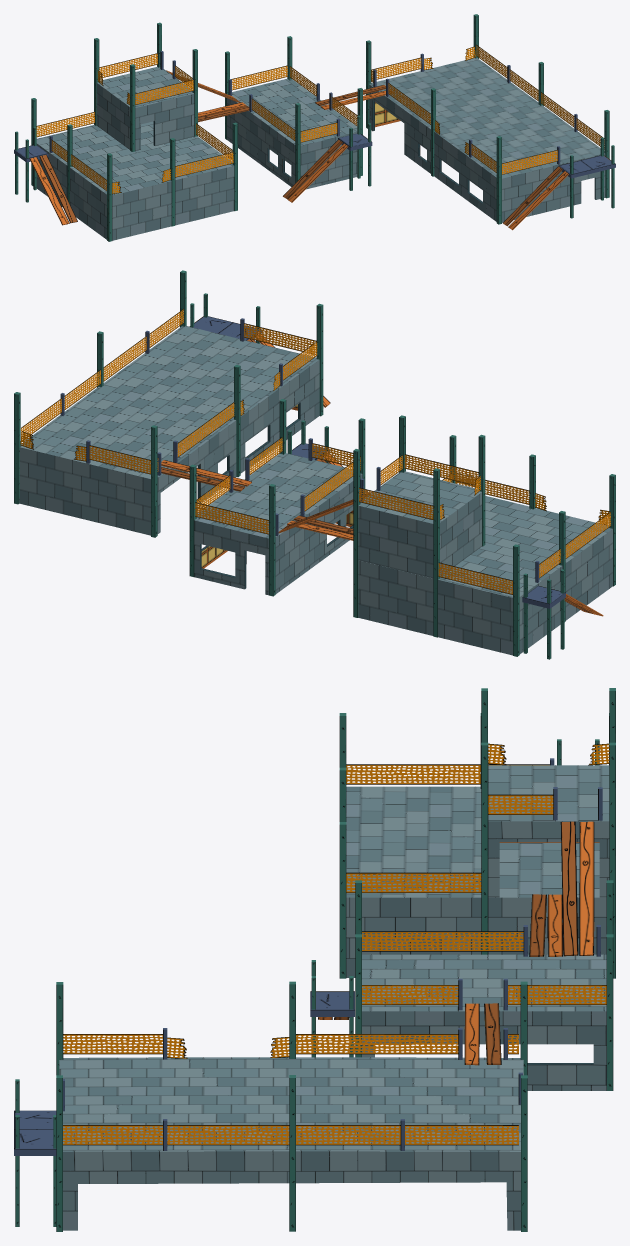
File: Construction site.fbx
3 views of the same model, one above another, from view 1: azimuth 30°, elevation 25°; view 2: azimuth 150°, elevation 25°; view 3: azimuth 270°, elevation 25° (orthographic). The views are drawn at different scales.
Parts seen in each view (by area): view 1: Box017, Box021, Box020, Box023, Plane018, Plane019, Box074, Plane025, Plane028, Plane031, Plane020, Plane003 (+28 smaller); view 2: Box017, Box021, Box020, Box023, Plane018, Plane019, Box116, Plane031, Plane020, Plane029, Box117, Plane028 (+18 smaller); view 3: Box017, Box021, Box020, Box023, Plane018, Plane019, Plane024, Plane026, Plane027, Box099, Box098, Box074 (+16 smaller).
Part boxes in pixels (left/top/right/bottom): Box017: left=369, top=58, right=605, bottom=222; Box021: left=36, top=121, right=234, bottom=240; Box020: left=227, top=79, right=357, bottom=189; Box023: left=96, top=66, right=194, bottom=150; Plane018: left=476, top=45, right=604, bottom=149; Plane019: left=371, top=70, right=496, bottom=172; Box074: left=558, top=155, right=615, bottom=178; Plane025: left=175, top=152, right=233, bottom=177; Plane028: left=135, top=79, right=193, bottom=104; Plane031: left=36, top=112, right=94, bottom=137; Plane020: left=231, top=65, right=287, bottom=90; Plane003: left=502, top=150, right=557, bottom=174; Box017: left=19, top=326, right=319, bottom=535; Box021: left=358, top=496, right=612, bottom=655; Box020: left=194, top=453, right=362, bottom=595; Box023: left=358, top=471, right=481, bottom=578; Plane018: left=21, top=309, right=183, bottom=440; Plane019: left=157, top=341, right=317, bottom=471; Box116: left=353, top=449, right=360, bottom=617; Plane031: left=438, top=562, right=512, bottom=594; Plane020: left=195, top=502, right=268, bottom=534; Plane029: left=359, top=487, right=433, bottom=519; Box117: left=433, top=468, right=439, bottom=637; Plane028: left=404, top=454, right=478, bottom=485; Box017: left=59, top=1057, right=523, bottom=1230; Box021: left=346, top=786, right=606, bottom=977; Box020: left=362, top=954, right=606, bottom=1090; Box023: left=488, top=765, right=609, bottom=897; Plane018: left=63, top=1125, right=518, bottom=1145; Plane019: left=63, top=1034, right=518, bottom=1054; Plane024: left=362, top=931, right=523, bottom=951; Plane026: left=346, top=764, right=549, bottom=784; Plane027: left=346, top=872, right=481, bottom=892; Box099: left=579, top=821, right=594, bottom=955; Box098: left=560, top=821, right=578, bottom=956; Box074: left=14, top=1110, right=56, bottom=1155.
Bounding box in the file's own units: 53.71 × 15.25 × 35.6.
3 materials, 3 textured.
